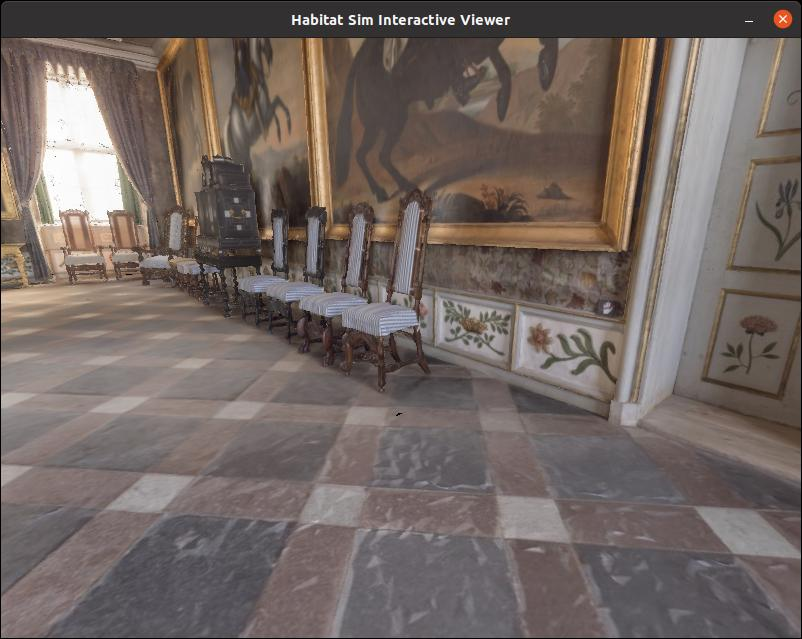chair: (334, 179, 447, 415), (290, 197, 385, 379), (258, 207, 343, 368), (50, 205, 107, 294)
